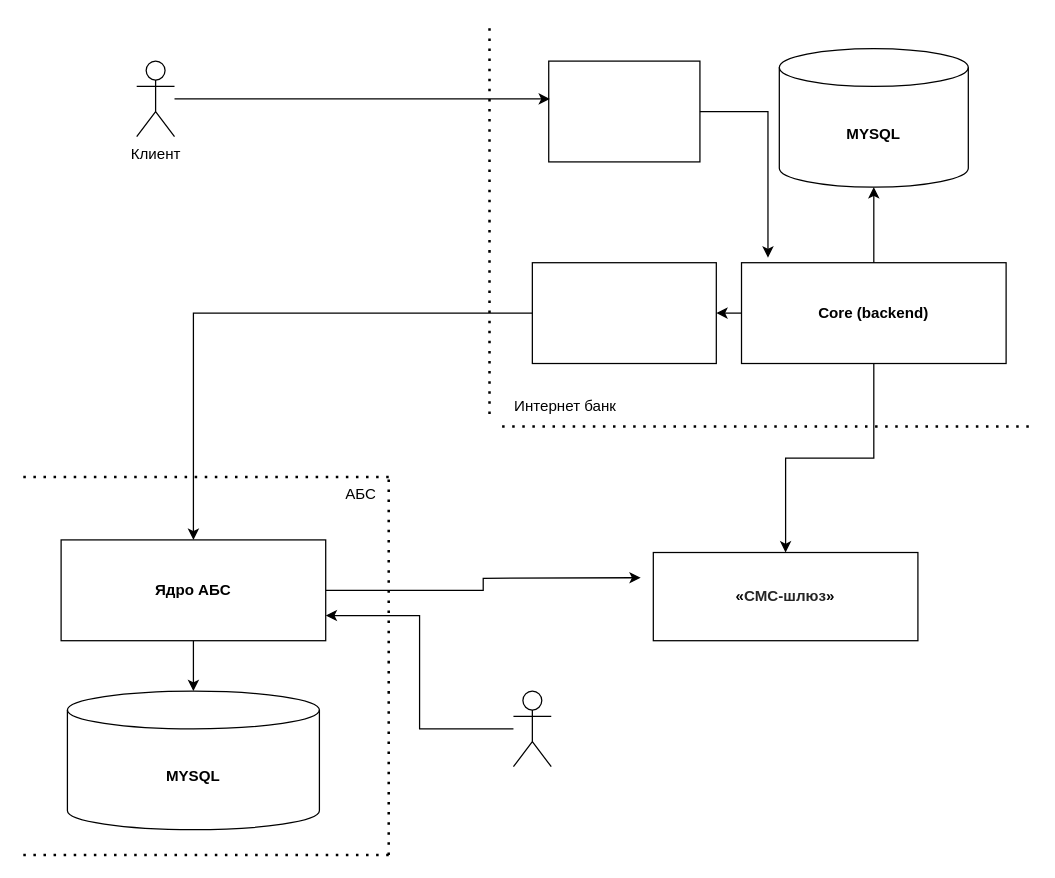
Image size: 1055x878. Some labels were removed from this diagram. Each missing label, with the box of its shape:
«WEB interface» .NET Framework 4.5: (547, 60, 700, 162)
АБС Adapte r (сервис ктр отправляет новые заявки в АБС): (531, 261, 716, 364)
Сотрудник бек-офиса: (512, 690, 551, 767)
